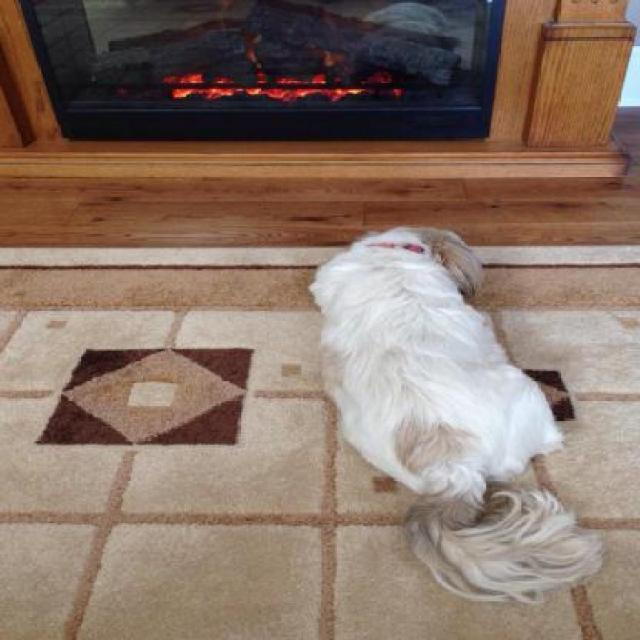Fire: (152, 68, 420, 104)
